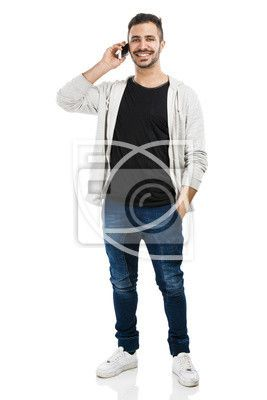phone: (109, 43, 127, 62)
talk: (107, 31, 160, 69)
